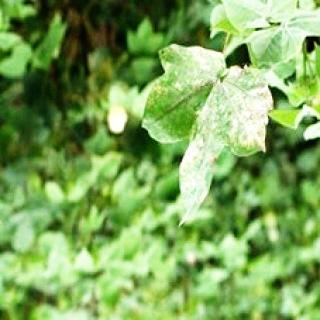grey mildew: (148, 41, 268, 196)
